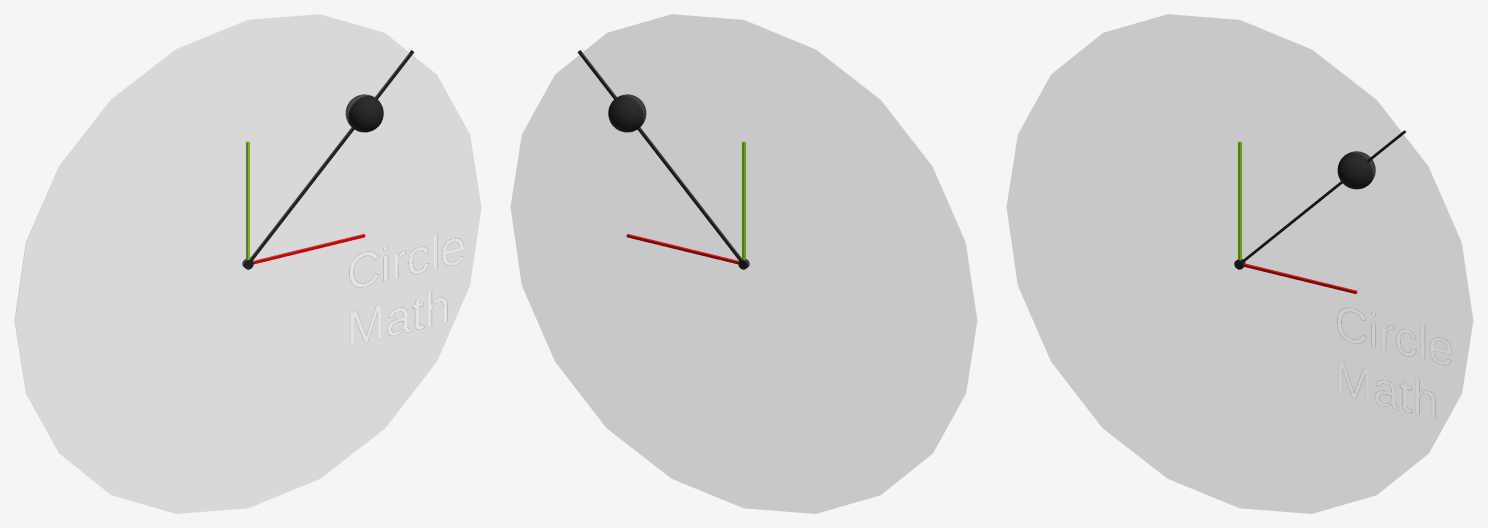
File: 20250107-CircleMath.glb
3 views of the same model, side by side, from view 1: azimuth 30°, elevation 25°; view 2: azimuth 150°, elevation 25°; view 3: azimuth 330°, elevation 25° (orthographic).
Visible parts, largest first — view 1: Cylinder, Text (TMP), Sphere, Cube; view 2: Cylinder, Sphere, Cube; view 3: Cylinder, Text (TMP), Sphere, Cube.
Part boxes in pixels (left/top/right/bottom): Cylinder: left=14, top=14, right=481, bottom=513; Text (TMP): left=349, top=233, right=463, bottom=345; Sphere: left=345, top=94, right=383, bottom=132; Cube: left=250, top=50, right=414, bottom=260; Cylinder: left=510, top=14, right=977, bottom=513; Sphere: left=608, top=94, right=646, bottom=132; Cube: left=577, top=50, right=741, bottom=260; Cylinder: left=1006, top=14, right=1473, bottom=513; Text (TMP): left=1337, top=307, right=1451, bottom=418; Sphere: left=1337, top=151, right=1375, bottom=189; Cube: left=1242, top=130, right=1405, bottom=262.
Size of the model in its own units: 1 by 1 by 0.071.
5 materials, 1 textured.
